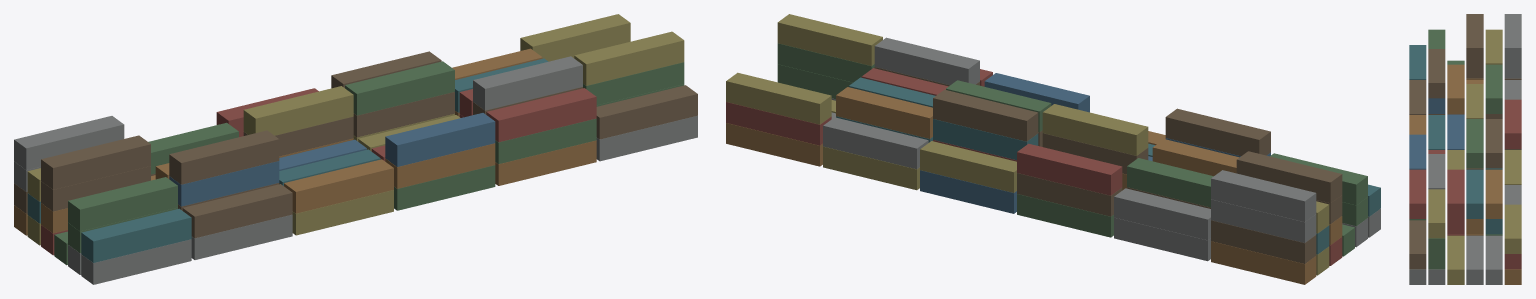
Rendered from container_stack_14.glb.
3 renders of one model, left to right at view 1: azimuth 30°, elevation 25°; view 2: azimuth 150°, elevation 25°; view 3: azimuth 270°, elevation 25°, orthographic. The views are drawn at different scales.
Parts seen in each view (by area): view 1: LOD0; view 2: LOD0; view 3: LOD0.
Boxes of the visible parts, x1=… form: LOD0: x1=14, y1=14, x2=697, y2=284; LOD0: x1=726, y1=14, x2=1380, y2=284; LOD0: x1=1409, y1=14, x2=1521, y2=284.
Size of what is drawn, in the model's own units: 75.2 by 10.38 by 17.1.
